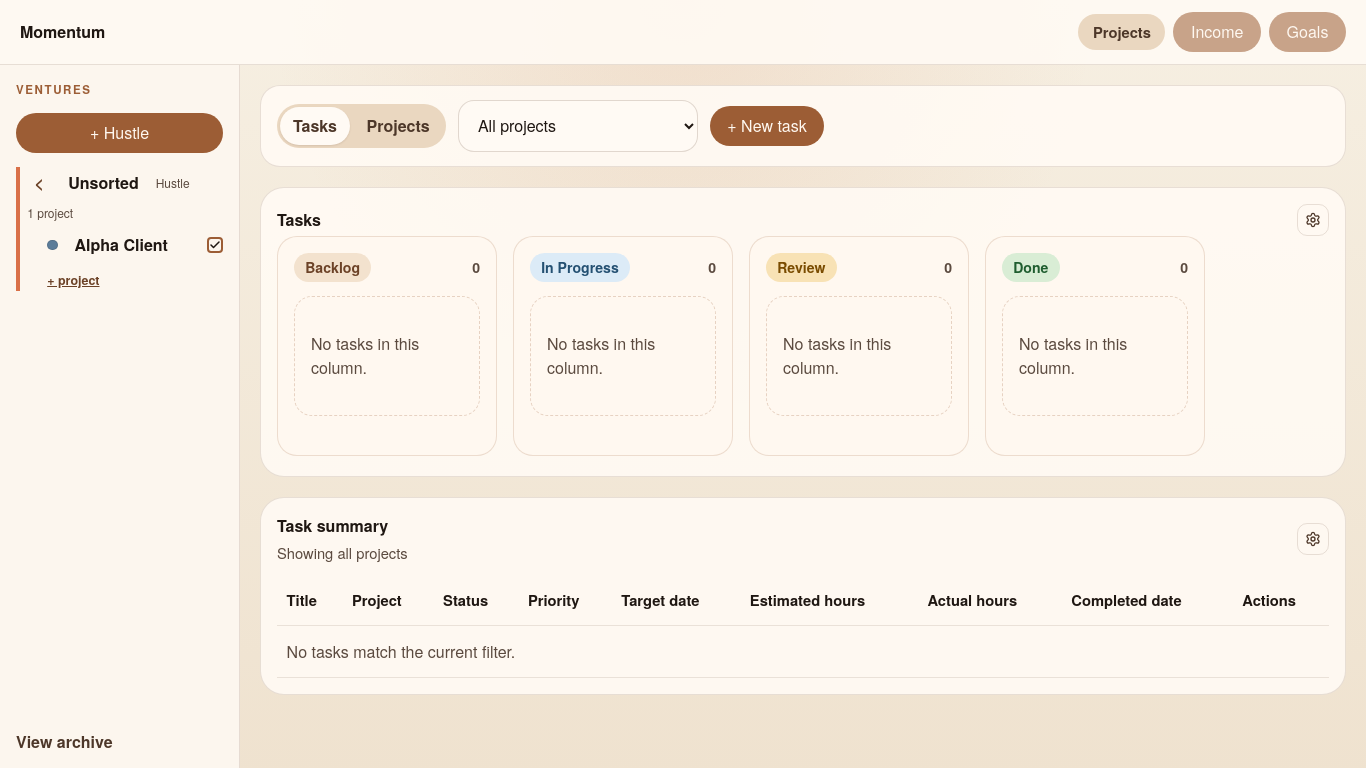
Test: Ticket 1b-4 Projects page polish › board options gear placement › omits status from board options and uses checkbox menu items
Click the button named "Board options": (1313, 220) [1297,204,1329,236]
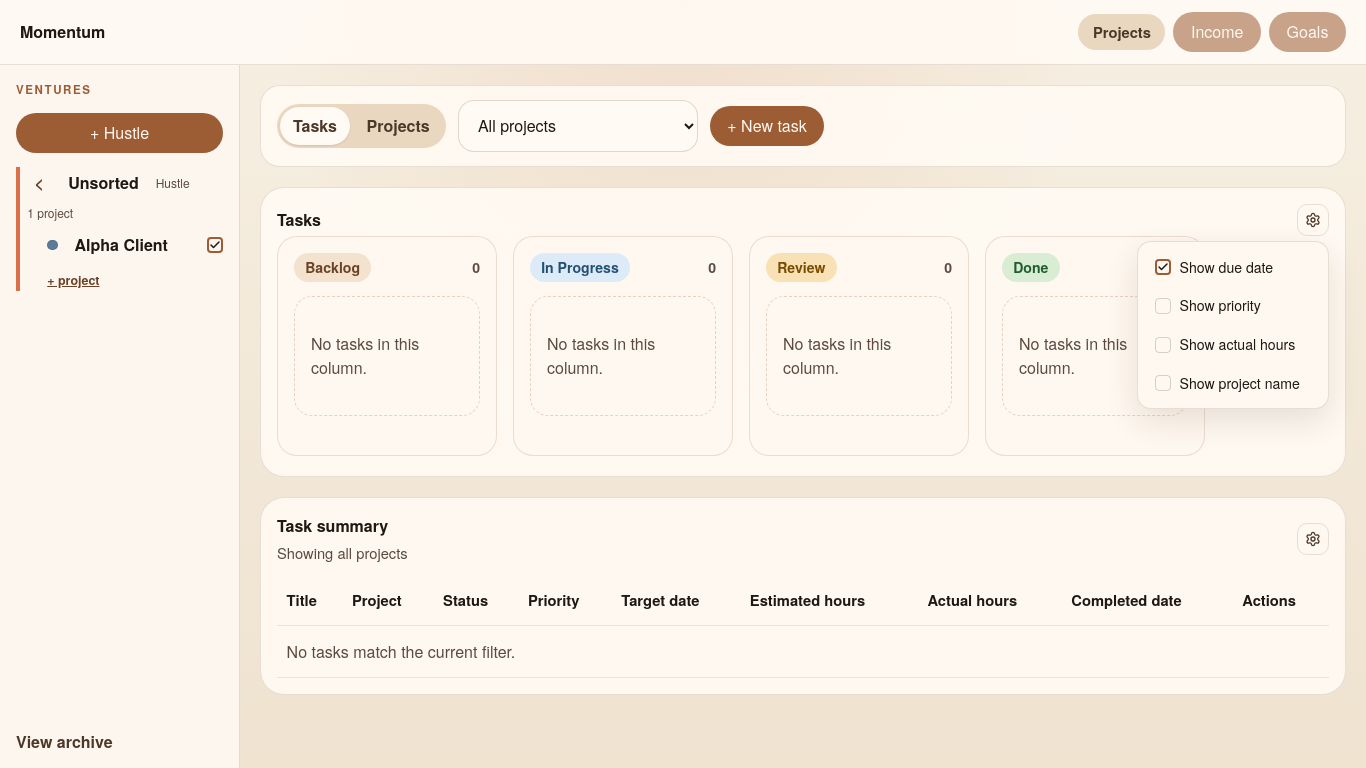
Expected: the menu item "Show due date" is shown, [1144,248,1322,287]
